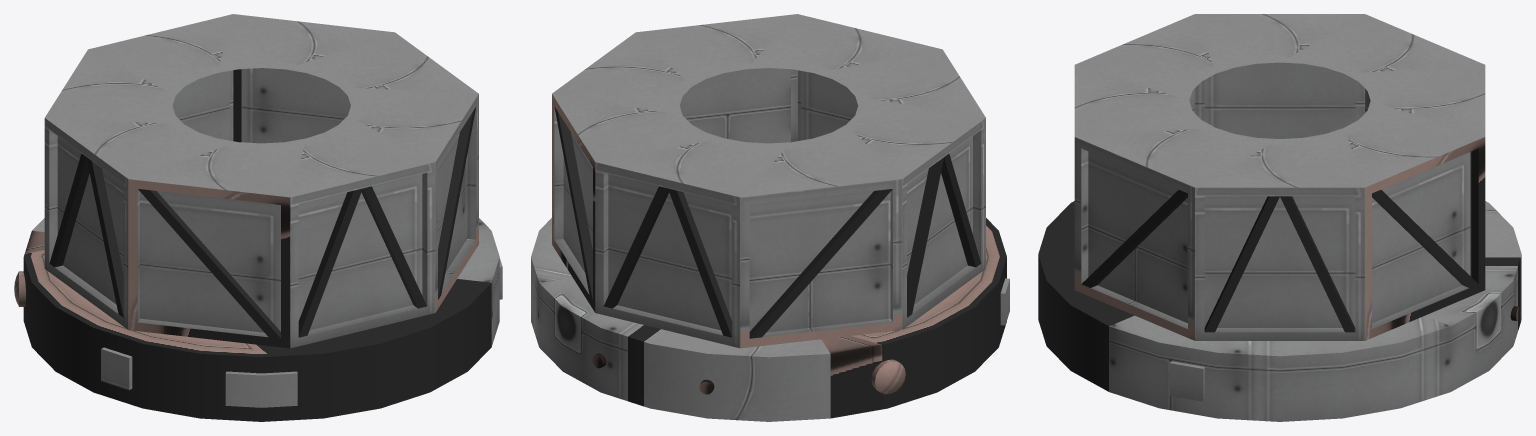
Rendered from acamar_crew_s2_s0p5_1.obj.
The picture shows the model from 3 angles, left to right: view 1: azimuth 30°, elevation 25°; view 2: azimuth 150°, elevation 25°; view 3: azimuth 270°, elevation 25°; orthographic projection.
Parts seen in each view (by area): view 1: mesh2; view 2: mesh2; view 3: mesh2.
Boxes of the visible parts, <box> form: mesh2: <box>14,14,502,421</box>; mesh2: <box>531,14,1009,421</box>; mesh2: <box>1038,14,1521,421</box>.
Size of the model in its own units: 2.5 by 1.25 by 2.5.
Materials: 1 (1 with a texture image).
